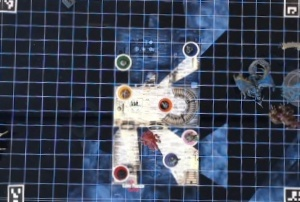blue: (180, 40, 199, 57)
green: (112, 54, 132, 69)
orange: (155, 96, 173, 112)
pink: (179, 126, 200, 146)
red: (111, 162, 129, 180)
violet: (161, 150, 180, 168)
yellow: (117, 83, 132, 98)
